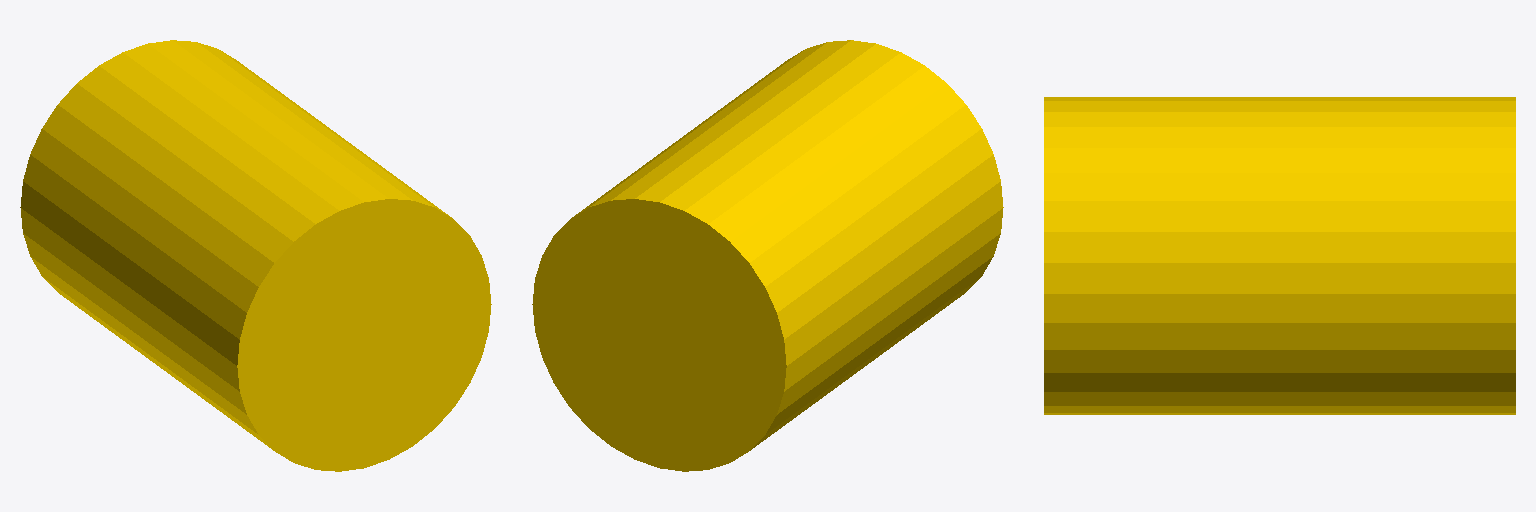
URDF robot description (cube):
<?xml version="1.0"?>
 <robot name="cube">
   <material name="golden">
     <color rgba="1 0.843 0 1"/>
   </material>
   <link name="base_link">
     <visual>
       <geometry>
         <cylinder length="0.1000" radius="0.033829689025878906"/>
       </geometry>
       <material name="golden"/>
       <origin xyz="0 0 0" rpy="1.5707963 0 0"/>
     </visual>
     <inertial>
       <mass value="0"/>
       <inertia ixx="1.0" ixy="0.0" ixz="0.0" iyy="1.0" iyz="0.0" izz="1.0"/>
     </inertial>
   </link>
 </robot>

--- What the picture shows (computed from the rendered views, not written in the file) ---
3 views of the same robot in one strip: view 1: azimuth 30°, elevation 25°; view 2: azimuth 150°, elevation 25°; view 3: azimuth 270°, elevation 25° (orthographic).
Model cube with 1 links and 0 joints (none), rooted at base_link, posed every joint at zero.
Links seen in each view (by area): view 1: base_link; view 2: base_link; view 3: base_link.
Boxes of the visible links, x1=… form: base_link: x1=20, y1=40, x2=491, y2=471; base_link: x1=532, y1=40, x2=1003, y2=471; base_link: x1=1044, y1=97, x2=1515, y2=414.
Bounding box of the posed robot: 0.0677 × 0.1 × 0.0677 m (x, y, z).
Geometry: primitives only (box / cylinder / sphere), no mesh files.